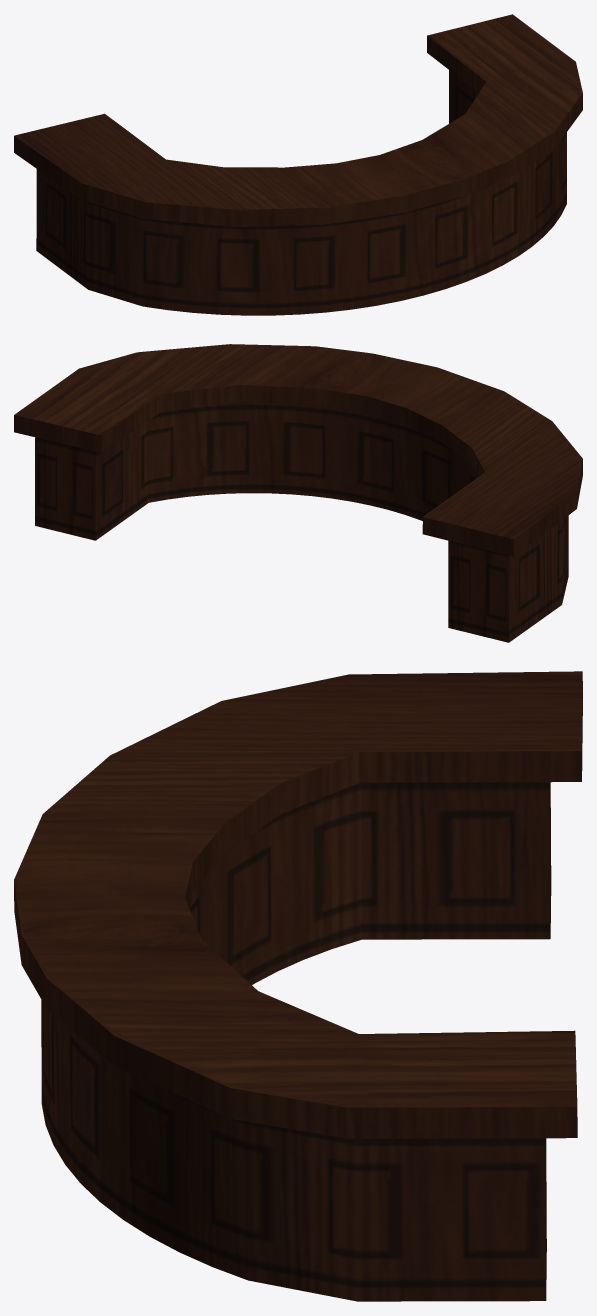
The model's file is DeskOld.glb.
3 views of the same model, one above another, from view 1: azimuth 30°, elevation 25°; view 2: azimuth 150°, elevation 25°; view 3: azimuth 270°, elevation 25° (orthographic). The views are drawn at different scales.
Parts seen in each view (by area): view 1: Plano; view 2: Plano; view 3: Plano.
Boxes of the visible parts, left/top/right/bottom form: Plano: left=14, top=14, right=582, bottom=315; Plano: left=14, top=344, right=582, bottom=642; Plano: left=14, top=671, right=582, bottom=1301.
Size of the model in its own units: 0.3294 by 0.0727 by 0.1809.
Materials: 1 (1 with a texture image).
